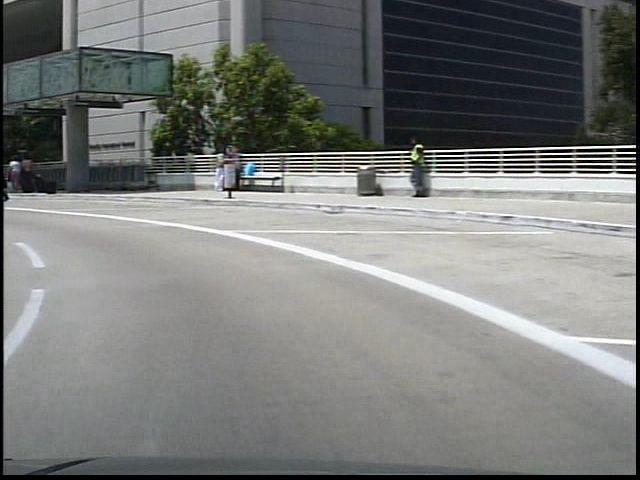person: (399, 147, 424, 214), (8, 154, 22, 194), (16, 156, 29, 197)
